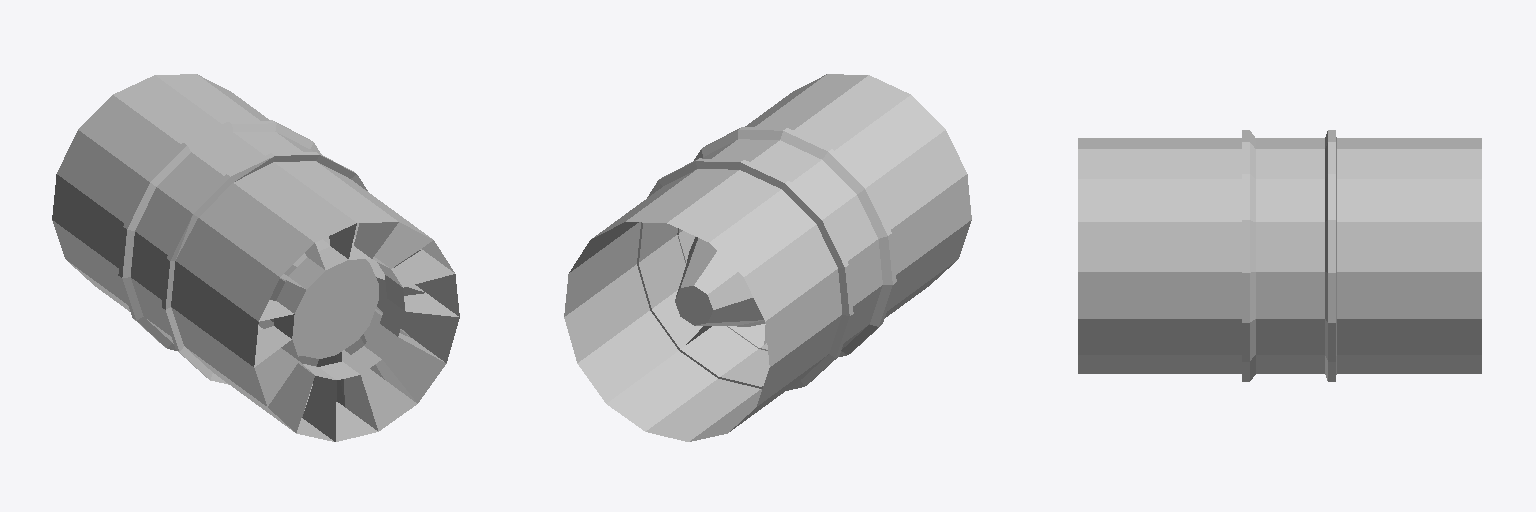
Rendered from ventilator.obj.
The picture shows the model from 3 angles: view 1: azimuth 30°, elevation 25°; view 2: azimuth 150°, elevation 25°; view 3: azimuth 270°, elevation 25°; orthographic projection.
Visible parts, largest first — view 1: Circle, Cylinder_Cylinder.002; view 2: Circle, Cylinder_Cylinder.002; view 3: Circle.
Part boxes in pixels (x1,y1,x2,y2): Circle: (52, 74, 459, 441); Cylinder_Cylinder.002: (258, 236, 378, 358); Circle: (564, 74, 971, 441); Cylinder_Cylinder.002: (675, 237, 764, 326); Circle: (1078, 130, 1481, 381).
Size of the model in its own units: 2.12 by 2.11 by 3.39.